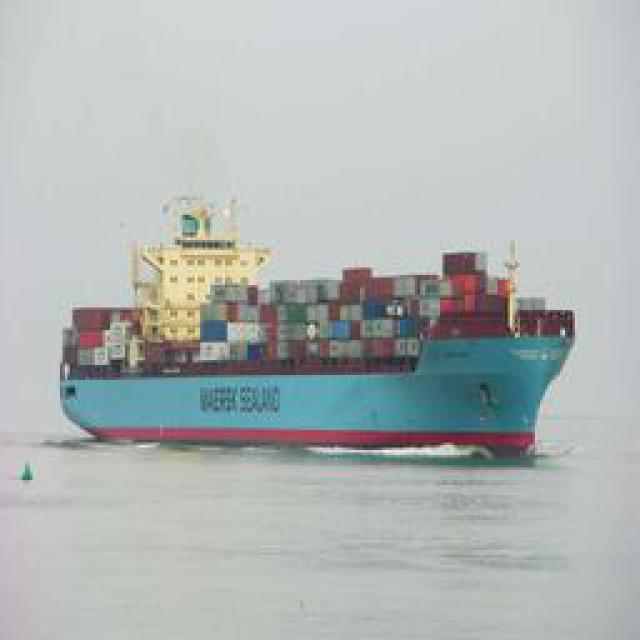Ship: (57, 190, 575, 453)
